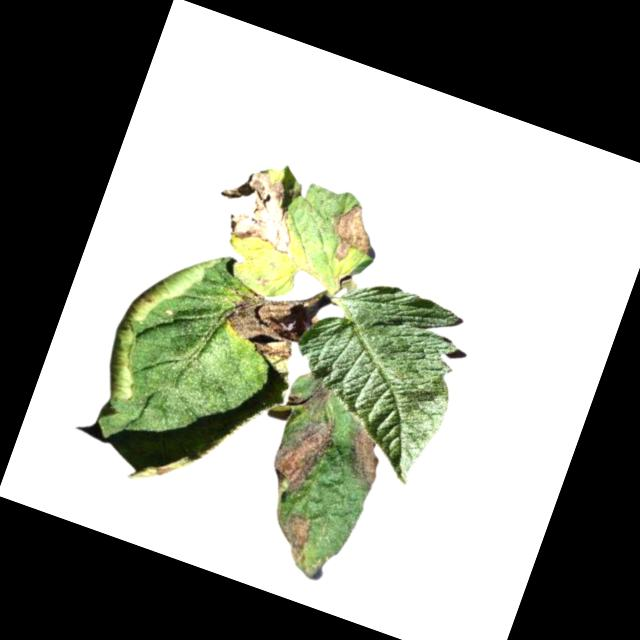Late_blight: (206, 162, 312, 261), (212, 278, 322, 372), (260, 403, 340, 507), (319, 197, 391, 272), (336, 423, 390, 492), (268, 509, 316, 569), (284, 374, 332, 418)
healthy: (263, 260, 481, 491)
